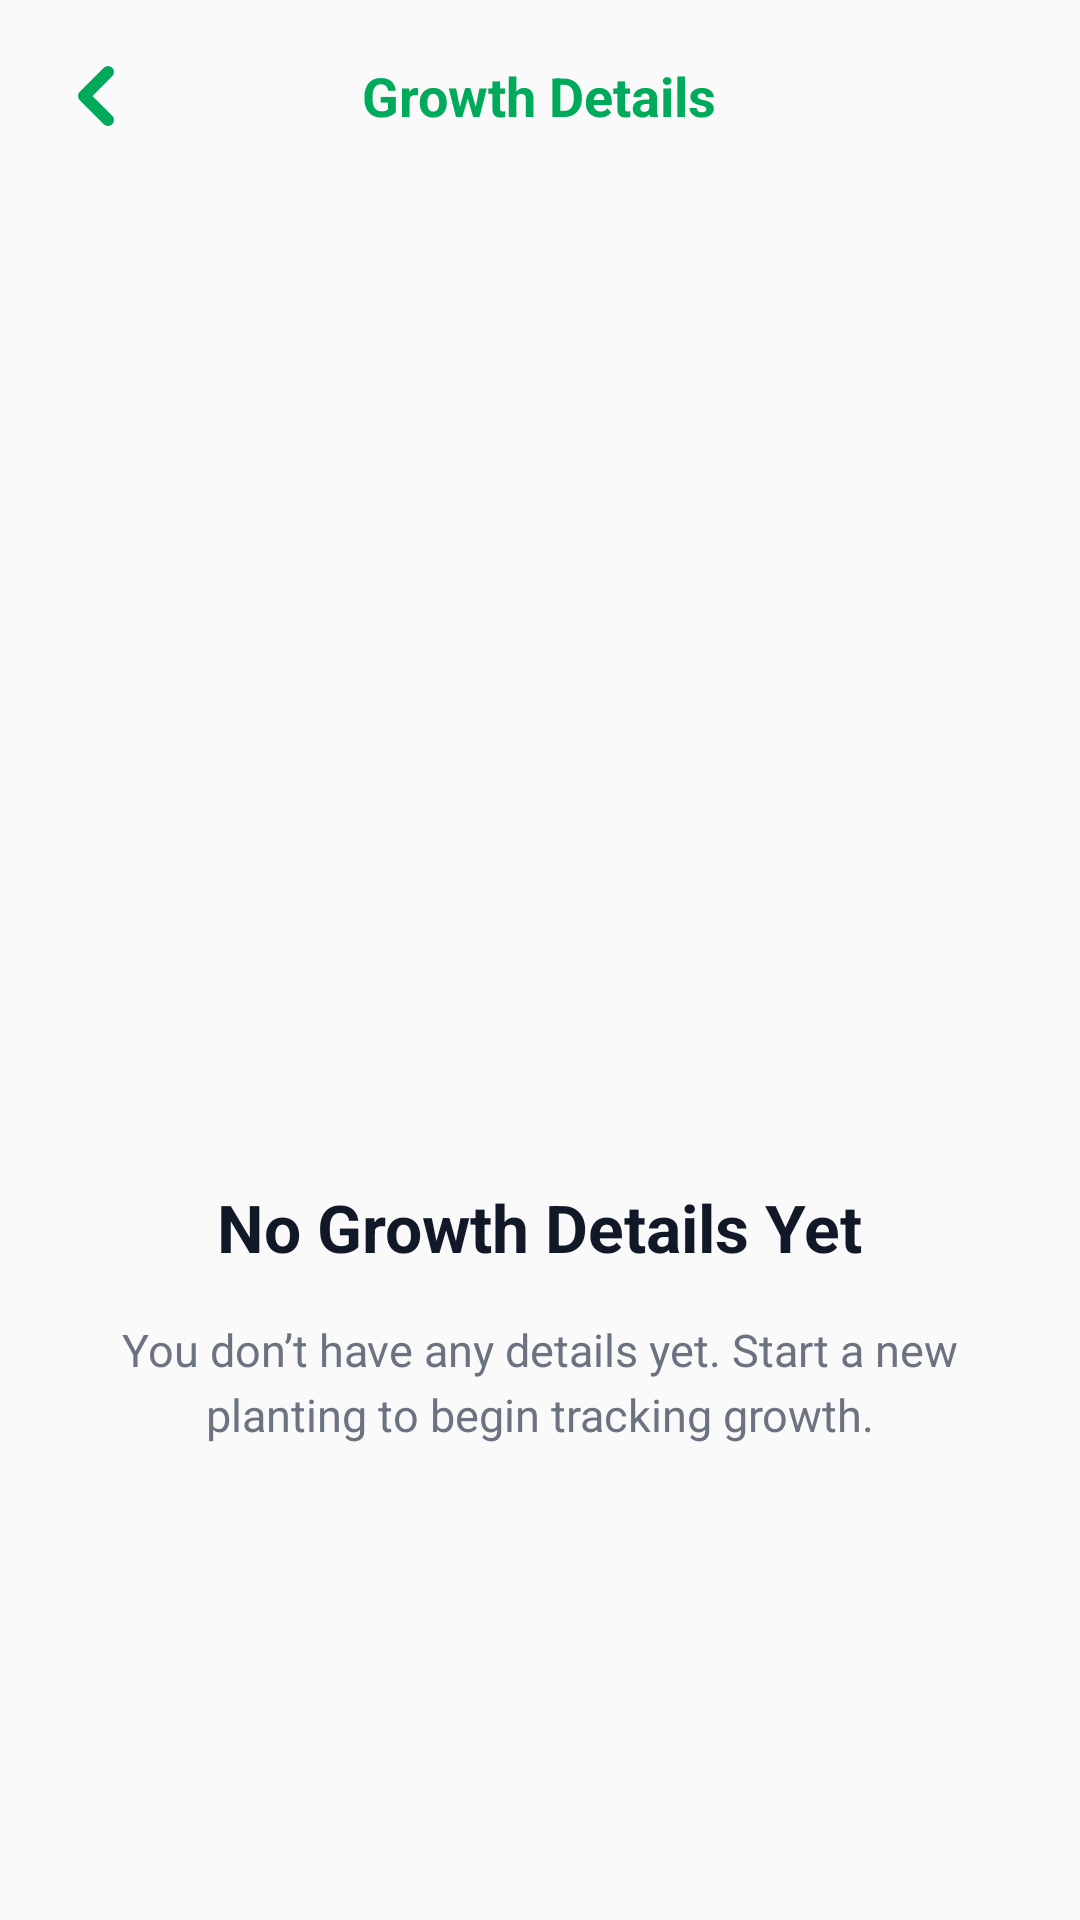

Point at icon controls on the screen. Image size 1080px x 1920px, points as (x,y).
Back: (96,96)
